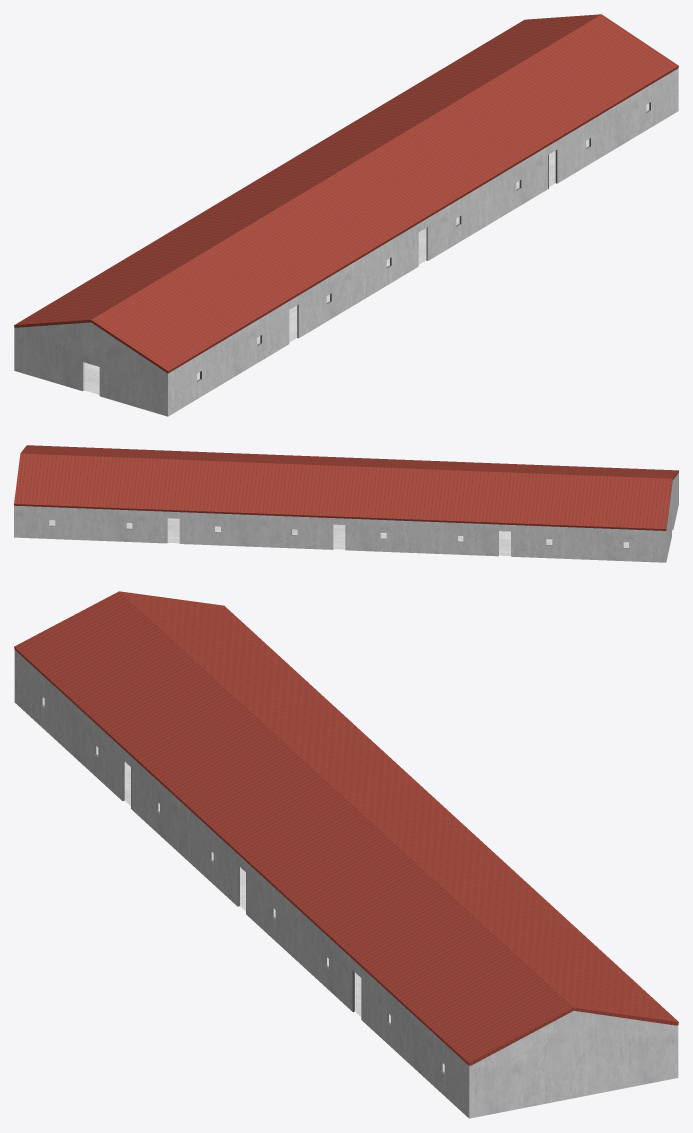
3 renders of one model, top to bottom at view 1: azimuth 30°, elevation 25°; view 2: azimuth 150°, elevation 25°; view 3: azimuth 270°, elevation 25°, orthographic. The views are drawn at different scales.
Parts seen in each view (by area): view 1: c棟; view 2: c棟; view 3: c棟.
Boxes of the visible parts, bbox=[...] form: c棟: bbox=[14, 14, 678, 416]; c棟: bbox=[14, 445, 678, 562]; c棟: bbox=[14, 591, 678, 1118].
Size of the model in its own units: 46.88 by 4.33 by 28.81.
Materials: 3 (2 with a texture image).
